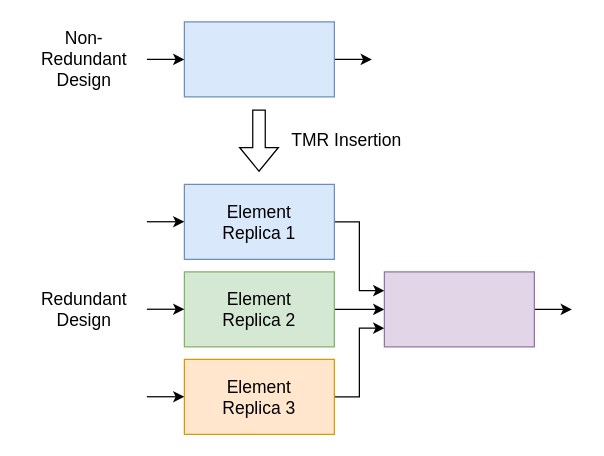
Image size: 604x456. Some labels were removed from this diagram. The shapes that lost their labels are listed below. From the top down, each one's centre as x and y in pixels, then its label:
the point at 258,59: Element
the point at 458,309: Majority Voter
